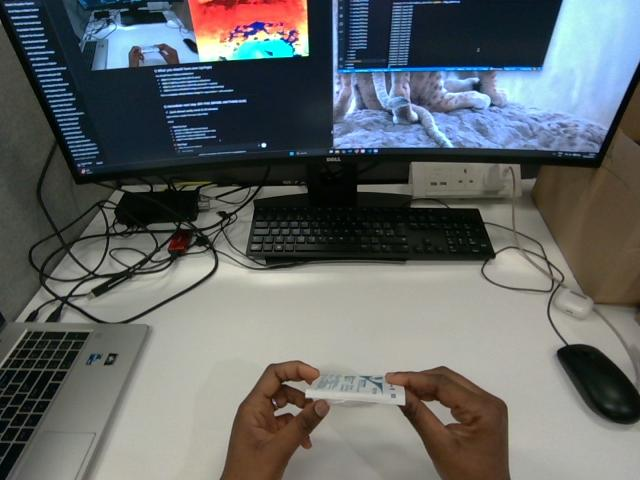gauze: (305, 374, 405, 404)
